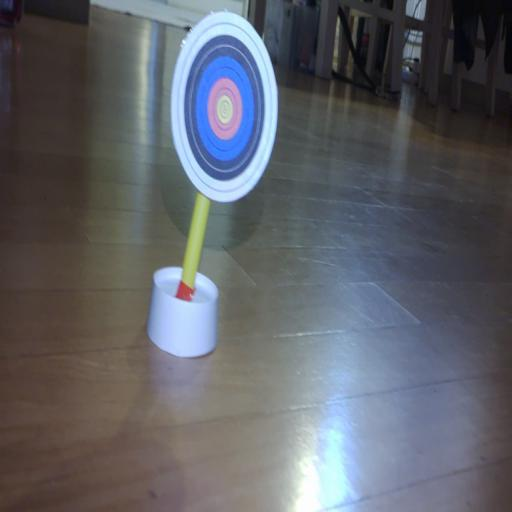target: (170, 11, 278, 201)
